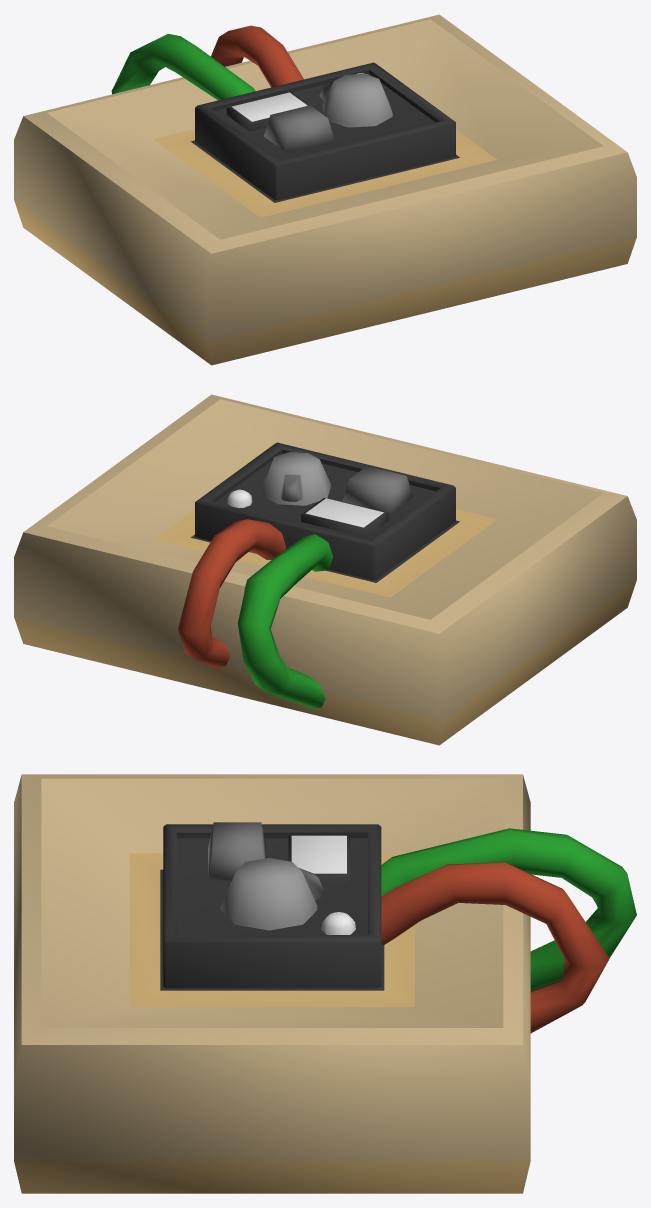
The picture shows the model from 3 angles, top to bottom: view 1: azimuth 30°, elevation 25°; view 2: azimuth 150°, elevation 25°; view 3: azimuth 270°, elevation 25°; orthographic projection. The views are drawn at different scales.
Visible parts, largest first — view 1: C4; view 2: C4; view 3: C4.
Boxes of the visible parts, <box> form: C4: <box>14,14,636,365</box>; C4: <box>14,394,636,745</box>; C4: <box>14,774,636,1193</box>.
Bounding box in the file's own units: 25.51 × 9.12 × 24.09.
